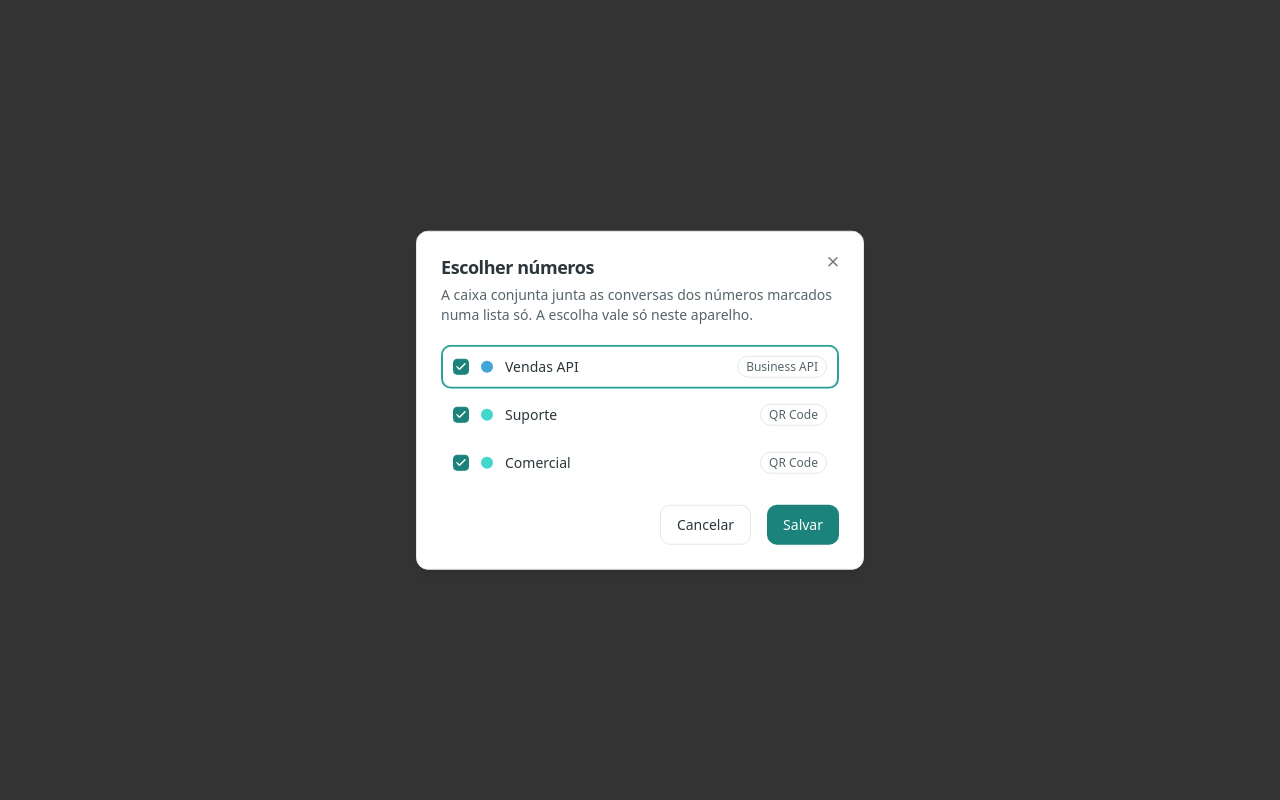
Test: CaixaConjuntaDialog › a linha inteira alterna ao clicar
The width and height of the screenshot is (1280, 800).
Click the checkbox labelled "Suporte QR Code": (531, 414) [453, 403, 827, 425]
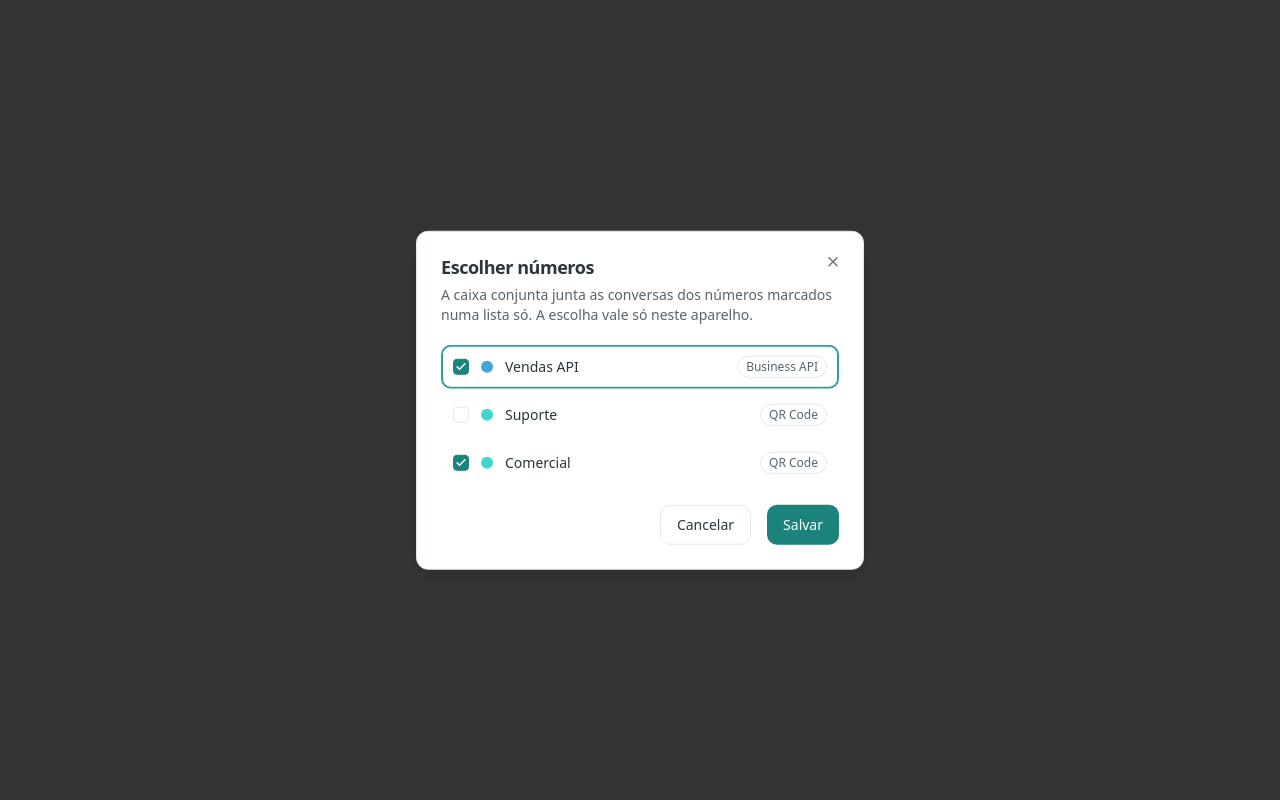
Check: the checkbox labelled "Suporte QR Code" is not checked
Click the checkbox labelled "Suporte QR Code": (531, 414) [453, 403, 827, 425]
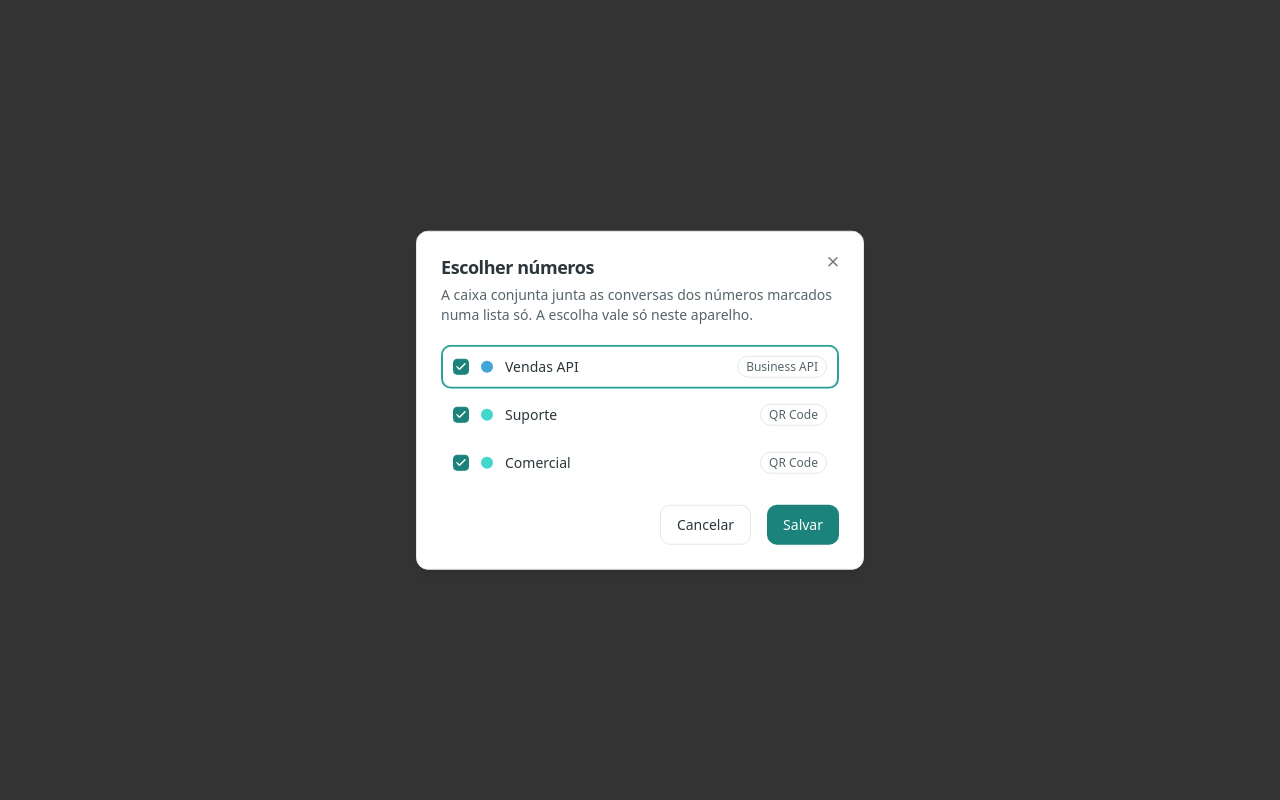
Check: the checkbox labelled "Suporte QR Code" is checked, box [453, 403, 827, 425]
